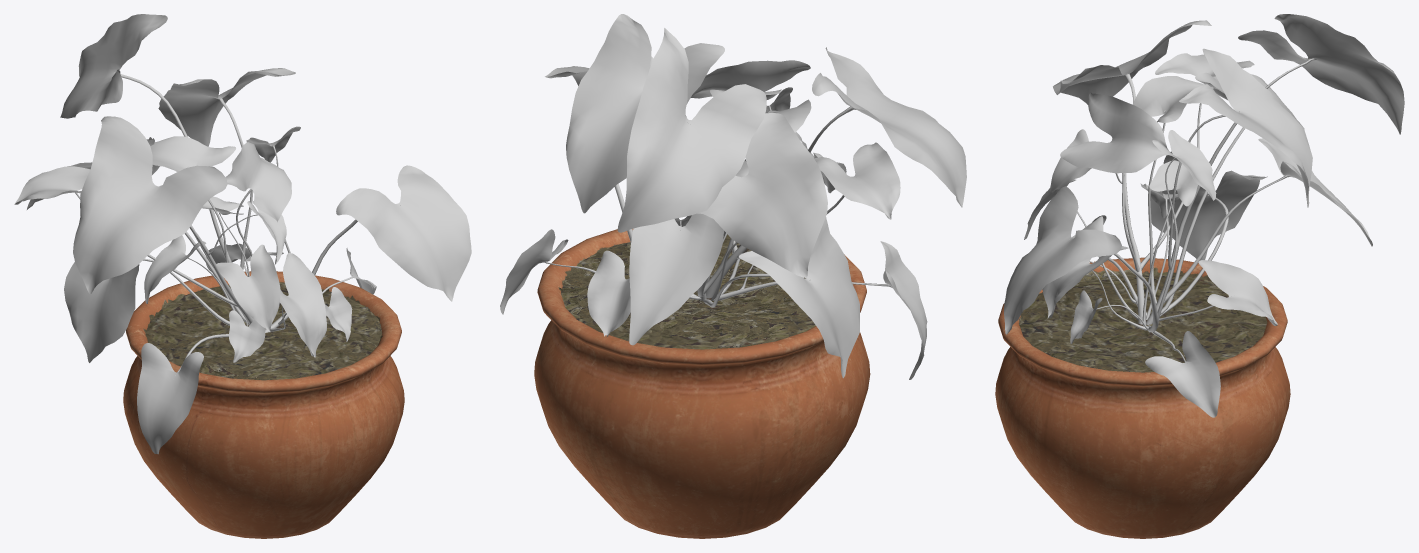
File: potted_plant_02.fbx
3 renders of one model, left to right at view 1: azimuth 30°, elevation 25°; view 2: azimuth 150°, elevation 25°; view 3: azimuth 270°, elevation 25°, orthographic. The views are drawn at different scales.
Parts seen in each view (by area): view 1: potted_plant_02_leaves, potted_plant_02_pot; view 2: potted_plant_02_leaves, potted_plant_02_pot; view 3: potted_plant_02_pot, potted_plant_02_leaves.
Boxes of the visible parts, x1,y1,x2,y2 form: potted_plant_02_leaves: [14, 14, 471, 454]; potted_plant_02_pot: [123, 271, 404, 538]; potted_plant_02_leaves: [500, 14, 966, 379]; potted_plant_02_pot: [534, 229, 870, 538]; potted_plant_02_pot: [995, 257, 1290, 538]; potted_plant_02_leaves: [1004, 14, 1404, 417].
Size of what is drawn, in the model's own units: 27.6 by 25.88 by 33.12.
